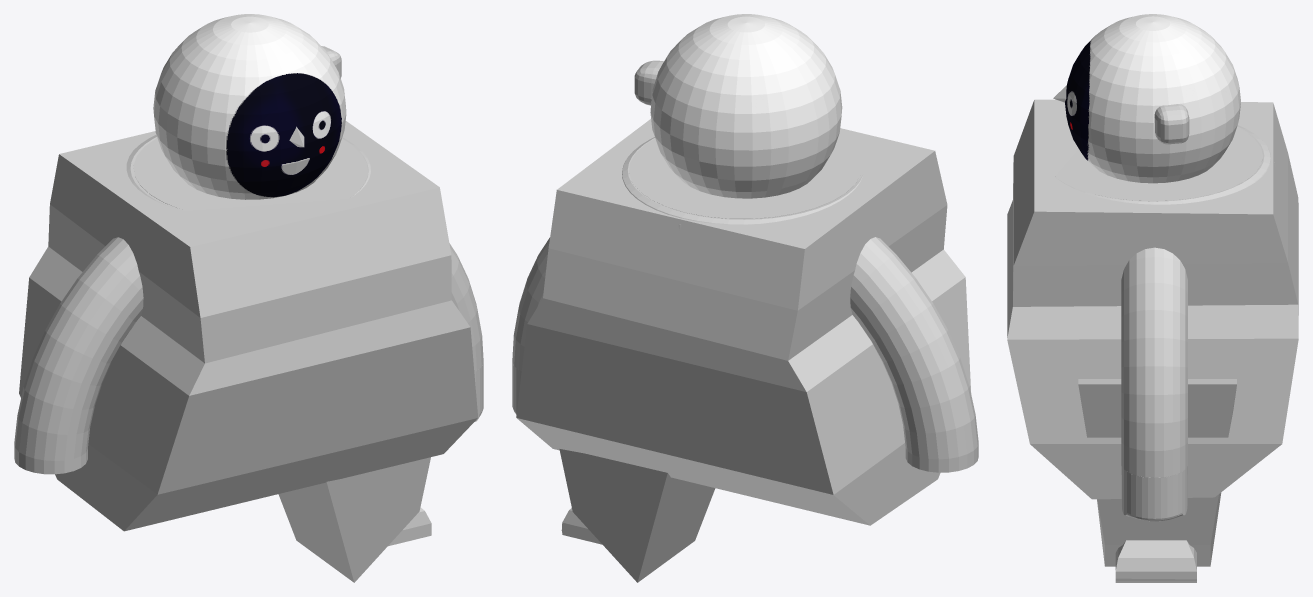
The model's file is mora_astronauta.glb.
The picture shows the model from 3 angles, left to right: view 1: azimuth 30°, elevation 25°; view 2: azimuth 150°, elevation 25°; view 3: azimuth 270°, elevation 25°; orthographic projection. The views are drawn at different scales.
Parts seen in each view (by area): view 1: cuerpo, rostro, brazos, piernas, cuello, pies; view 2: cuerpo, rostro, brazos, piernas, cuello, orejas, pies; view 3: cuerpo, rostro, brazos, piernas, cuello, pies, manos, orejas.
Boxes of the visible parts, left/top/right/bottom form: cuerpo: left=19, top=121, right=478, bottom=531; rostro: left=153, top=14, right=346, bottom=199; brazos: left=14, top=237, right=483, bottom=474; piernas: left=278, top=457, right=430, bottom=582; cuello: left=126, top=135, right=370, bottom=210; pies: left=388, top=507, right=431, bottom=546; cuerpo: left=516, top=119, right=971, bottom=525; rostro: left=650, top=14, right=842, bottom=198; brazos: left=512, top=237, right=978, bottom=472; piernas: left=559, top=449, right=715, bottom=582; cuello: left=622, top=137, right=863, bottom=230; orejas: left=634, top=60, right=663, bottom=105; pies: left=561, top=508, right=601, bottom=544; cuerpo: left=1007, top=99, right=1298, bottom=499; rostro: left=1065, top=14, right=1240, bottom=183; brazos: left=1121, top=247, right=1187, bottom=477; piernas: left=1078, top=379, right=1236, bottom=566; cuello: left=1054, top=125, right=1275, bottom=204; pies: left=1115, top=540, right=1196, bottom=582; manos: left=1121, top=466, right=1187, bottom=521; orejas: left=1154, top=104, right=1189, bottom=144.
Size of the model in its own units: 3.6 by 4.18 by 2.17.
Materials: 2 (1 with a texture image).
